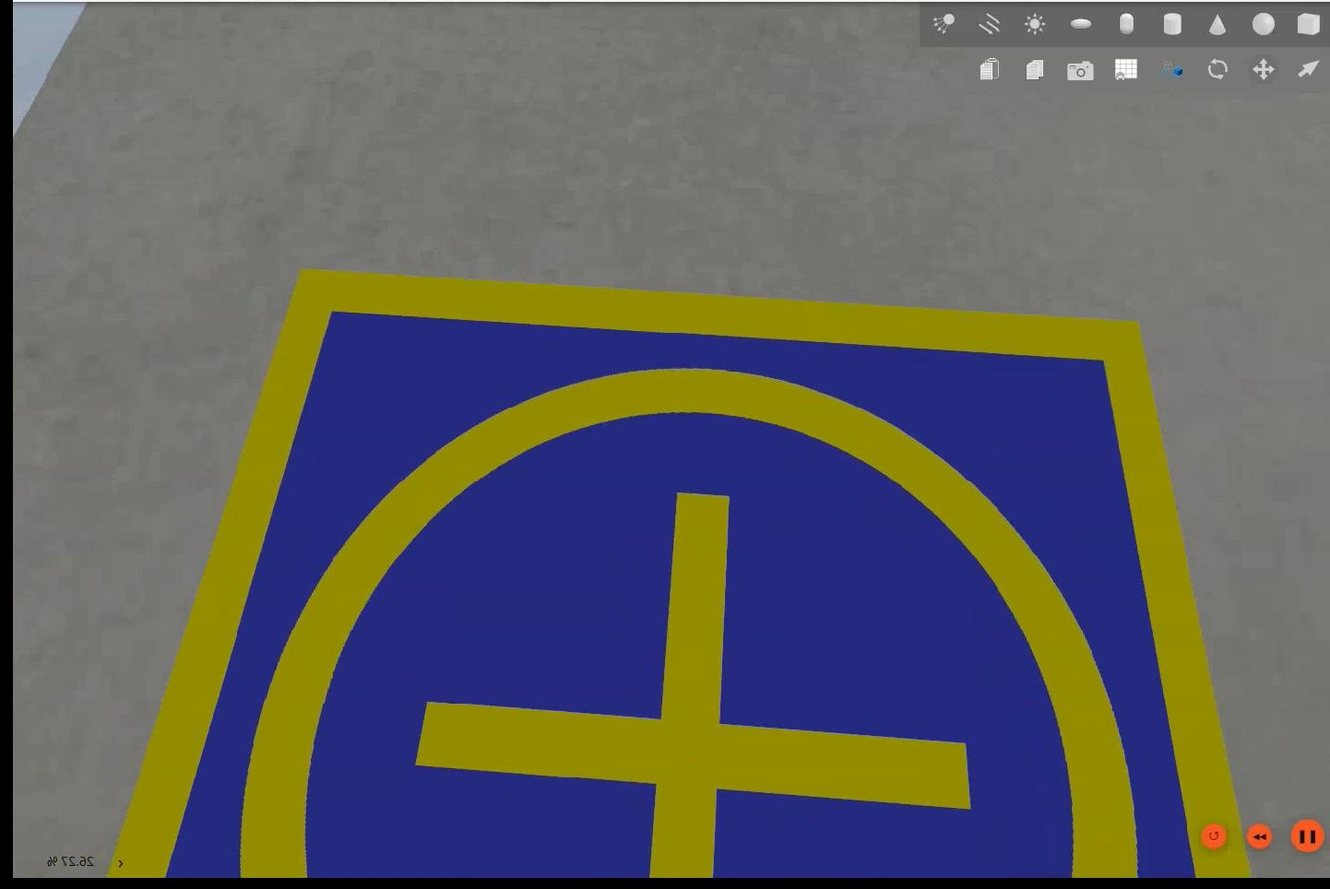small_base: (103, 266, 1252, 880)
